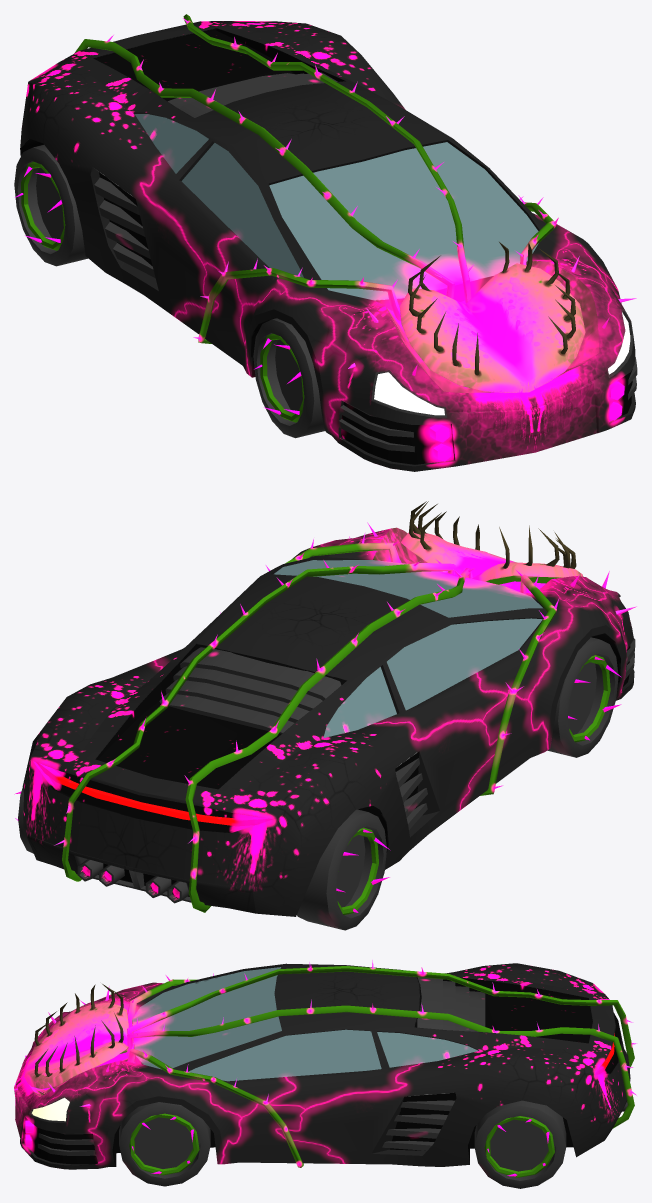
The model's file is ContestantCarMutate.fbx.
The picture shows the model from 3 angles, top to bottom: view 1: azimuth 30°, elevation 25°; view 2: azimuth 150°, elevation 25°; view 3: azimuth 270°, elevation 25°; orthographic projection. The views are drawn at different scales.
Visible parts, largest first — view 1: ContestantCarMutate, CntestantCarMutateW-FR, CntestantCarMutateW-BR; view 2: ContestantCarMutate, CntestantCarMutateW-BR, CntestantCarMutateW-FR; view 3: ContestantCarMutate, CntestantCarMutateW-Bl, CntestantCarMutateW-FL.
Boxes of the visible parts, x1,y1,x2,y2 form: ContestantCarMutate: (20,14,637,471); CntestantCarMutateW-FR: (253,318,325,438); CntestantCarMutateW-BR: (14,145,88,266); ContestantCarMutate: (22,501,636,916); CntestantCarMutateW-BR: (297,809,390,930); CntestantCarMutateW-FR: (547,637,621,757); ContestantCarMutate: (14,960,637,1169); CntestantCarMutateW-Bl: (474,1100,566,1188); CntestantCarMutateW-FL: (119,1102,210,1186).
Bounding box in the file's own units: 262 × 145 × 545.
